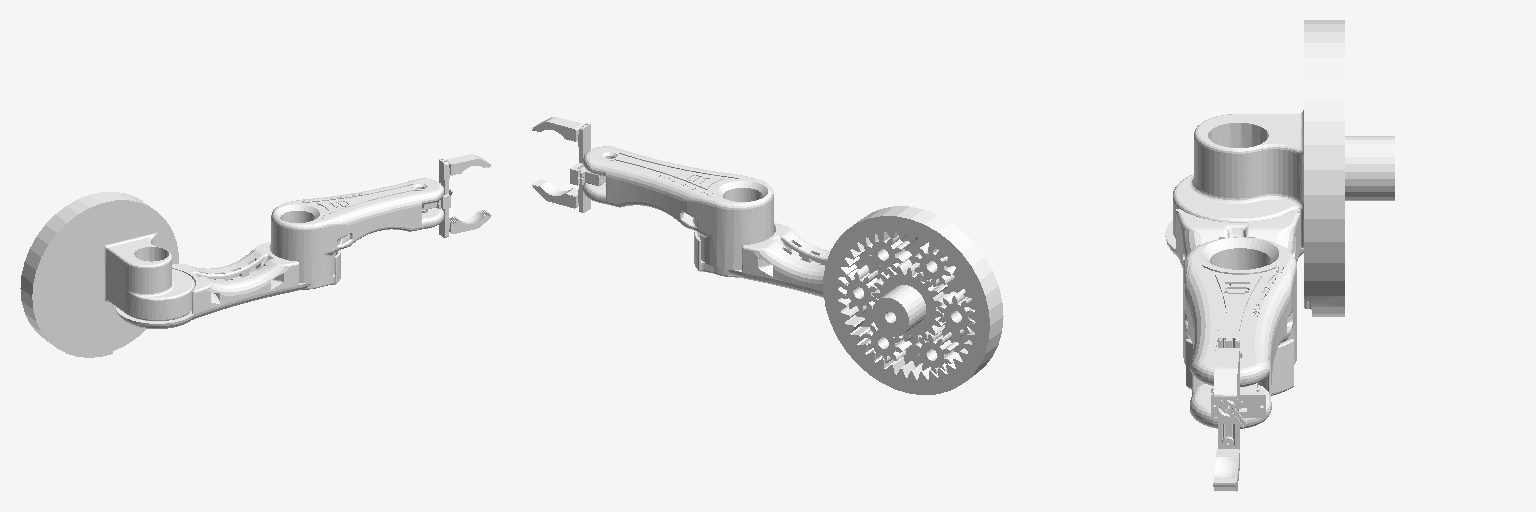
The robot description file, URDF, robot "Ensamblajev12_6":
<?xml version="1.0" encoding="utf-8"?>
<!-- This URDF was automatically created by SolidWorks to URDF Exporter! Originally created by Stephen Brawner (brawner@gmail.com) 
     Commit Version: 1.6.0-4-g7f85cfe  Build Version: 1.6.7995.38578
     For more information, please see http://wiki.ros.org/sw_urdf_exporter -->
<robot
  name="Ensamblajev12_6">
  <link
    name="base_link">
    <inertial>
      <origin
        xyz="0.14769 -0.092824 0.09895"
        rpy="0 0 0" />
      <mass
        value="5" />
      <inertia
        ixx="0.0061943"
        ixy="0.00034463"
        ixz="-2.711E-05"
        iyy="0.013162"
        iyz="9.2508E-06"
        izz="0.010154" />
    </inertial>
    <visual>
      <origin
        xyz="0 0 0"
        rpy="0 0 0" />
      <geometry>
        <mesh
          filename="package://Ensamblajev12_6/meshes/base_link.STL" />
      </geometry>
      <material
        name="">
        <color
          rgba="0.29804 0.29804 0.29804 1" />
      </material>
    </visual>
    <collision>
      <origin
        xyz="0 0 0"
        rpy="0 0 0" />
      <geometry>
        <mesh
          filename="package://Ensamblajev12_6/meshes/base_link.STL" />
      </geometry>
    </collision>
  </link>
  <link
    name="B1">
    <inertial>
      <origin
        xyz="0.0050893 0.0028829 0.020526"
        rpy="0 0 0" />
      <mass
        value="0.2" />
      <inertia
        ixx="0.0011773"
        ixy="-3.3249E-05"
        ixz="-0.00011396"
        iyy="0.0012987"
        iyz="-2.1578E-05"
        izz="0.0019641" />
    </inertial>
    <visual>
      <origin
        xyz="0 0 0"
        rpy="0 0 0" />
      <geometry>
        <mesh
          filename="package://Ensamblajev12_6/meshes/B1.STL" />
      </geometry>
      <material
        name="">
        <color
          rgba="1 1 1 1" />
      </material>
    </visual>
    <collision>
      <origin
        xyz="0 0 0"
        rpy="0 0 0" />
      <geometry>
        <mesh
          filename="package://Ensamblajev12_6/meshes/B1.STL" />
      </geometry>
    </collision>
  </link>
  <joint
    name="J1"
    type="continuous">
    <origin
      xyz="0.099806 -0.135 0.10018"
      rpy="1.5708 -0.0014338 0" />
    <parent
      link="base_link" />
    <child
      link="B1" />
    <axis
      xyz="0 0 1" />
  </joint>
  <link
    name="A1">
    <inertial>
      <origin
        xyz="0.084043 0.00053774 0.011617"
        rpy="0 0 0" />
      <mass
        value="0.15" />
      <inertia
        ixx="0.00014704"
        ixy="-6.8149E-06"
        ixz="-3.9771E-06"
        iyy="0.0013021"
        iyz="-1.488E-07"
        izz="0.0013966" />
    </inertial>
    <visual>
      <origin
        xyz="0 0 0"
        rpy="0 0 0" />
      <geometry>
        <mesh
          filename="package://Ensamblajev12_6/meshes/A1.STL" />
      </geometry>
      <material
        name="">
        <color
          rgba="1 1 1 1" />
      </material>
    </visual>
    <collision>
      <origin
        xyz="0 0 0"
        rpy="0 0 0" />
      <geometry>
        <mesh
          filename="package://Ensamblajev12_6/meshes/A1.STL" />
      </geometry>
    </collision>
  </link>
  <joint
    name="J2"
    type="continuous">
    <origin
      xyz="0.04 -0.032 0.065"
      rpy="-1.5708 0 -0.0014338" />
    <parent
      link="B1" />
    <child
      link="A1" />
    <axis
      xyz="-0.0014338 0 1" />
    <limit
      lower="-2.43"
      upper="0"
      effort="10"
      velocity="1" />
  </joint>
  <link
    name="A2">
    <inertial>
      <origin
        xyz="0.0040691 0.05438 0.044947"
        rpy="0 0 0" />
      <mass
        value="0.1" />
      <inertia
        ixx="0.00089175"
        ixy="-3.5921E-05"
        ixz="-1.9369E-06"
        iyy="0.00015707"
        iyz="-3.9437E-05"
        izz="0.00093244" />
    </inertial>
    <visual>
      <origin
        xyz="0 0 0"
        rpy="0 0 0" />
      <geometry>
        <mesh
          filename="package://Ensamblajev12_6/meshes/A2.STL" />
      </geometry>
      <material
        name="">
        <color
          rgba="1 1 1 1" />
      </material>
    </visual>
    <collision>
      <origin
        xyz="0 0 0"
        rpy="0 0 0" />
      <geometry>
        <mesh
          filename="package://Ensamblajev12_6/meshes/A2.STL" />
      </geometry>
    </collision>
  </link>
  <joint
    name="J3"
    type="continuous">
    <origin
      xyz="0.17997 0.0027028 0.0072582"
      rpy="0.0014338 -1.051E-05 -1.5635" />
    <parent
      link="A1" />
    <child
      link="A2" />
    <axis
      xyz="0 0 1" />
    <limit
      lower="-2.68"
      upper="2.88"
      effort="10"
      velocity="1" />
  </joint>
  <link
    name="G1">
    <inertial>
      <origin
        xyz="-0.006216 0.0025049 0.0077751"
        rpy="0 0 0" />
      <mass
        value="0.005" />
      <inertia
        ixx="1.0619E-09"
        ixy="-5.2811E-10"
        ixz="-1.0382E-11"
        iyy="1.8409E-08"
        iyz="2.1736E-11"
        izz="1.7847E-08" />
    </inertial>
    <visual>
      <origin
        xyz="0 0 0"
        rpy="0 0 0" />
      <geometry>
        <mesh
          filename="package://Ensamblajev12_6/meshes/G1.STL" />
      </geometry>
      <material
        name="">
        <color
          rgba="1 1 1 1" />
      </material>
    </visual>
    <collision>
      <origin
        xyz="0 0 0"
        rpy="0 0 0" />
      <geometry>
        <mesh
          filename="package://Ensamblajev12_6/meshes/G1.STL" />
      </geometry>
    </collision>
  </link>
  <joint
    name="J4"
    type="fixed">
    <origin
      xyz="-0.00025 0.16894 0.047"
      rpy="-3.1416 0.89637 -3.1416" />
    <parent
      link="A2" />
    <child
      link="G1" />
    <axis
      xyz="0 1 0" />
    <limit
      lower="0"
      upper="0"
      effort="0"
      velocity="0" />
  </joint>
  <link
    name="g11">
    <inertial>
      <origin
        xyz="-0.00056573 0.013666 -0.010485"
        rpy="0 0 0" />
      <mass
        value="0.001" />
      <inertia
        ixx="1.3061E-06"
        ixy="4.6516E-08"
        ixz="-5.928E-10"
        iyy="1.8437E-07"
        iyz="1.4324E-08"
        izz="1.32E-06" />
    </inertial>
    <visual>
      <origin
        xyz="0 0 0"
        rpy="0 0 0" />
      <geometry>
        <mesh
          filename="package://Ensamblajev12_6/meshes/g11.STL" />
      </geometry>
      <material
        name="">
        <color
          rgba="1 1 1 1" />
      </material>
    </visual>
    <collision>
      <origin
        xyz="0 0 0"
        rpy="0 0 0" />
      <geometry>
        <mesh
          filename="package://Ensamblajev12_6/meshes/g11.STL" />
      </geometry>
    </collision>
  </link>
  <joint
    name="g1"
    type="prismatic">
    <origin
      xyz="-0.025731 0.0086004 -0.0071255"
      rpy="0.0091681 0.89634 0.011738" />
    <parent
      link="G1" />
    <child
      link="g11" />
    <axis
      xyz="0 0 1" />
    <limit
      lower="-0.01"
      upper="0.02"
      effort="10"
      velocity="1" />
    <mimic
      joint="J4"
      multiplier="1"
      offset="0" />
  </joint>
  <link
    name="g12">
    <inertial>
      <origin
        xyz="-0.00056572 0.013666 0.010485"
        rpy="0 0 0" />
      <mass
        value="0.001" />
      <inertia
        ixx="1.3061E-06"
        ixy="4.6515E-08"
        ixz="5.931E-10"
        iyy="1.8437E-07"
        iyz="-1.4324E-08"
        izz="1.32E-06" />
    </inertial>
    <visual>
      <origin
        xyz="0 0 0"
        rpy="0 0 0" />
      <geometry>
        <mesh
          filename="package://Ensamblajev12_6/meshes/g12.STL" />
      </geometry>
      <material
        name="">
        <color
          rgba="1 1 1 1" />
      </material>
    </visual>
    <collision>
      <origin
        xyz="0 0 0"
        rpy="0 0 0" />
      <geometry>
        <mesh
          filename="package://Ensamblajev12_6/meshes/g12.STL" />
      </geometry>
    </collision>
  </link>
  <joint
    name="g2"
    type="prismatic">
    <origin
      xyz="0.012167 0.0085931 0.023365"
      rpy="0.0091681 0.89634 0.011738" />
    <parent
      link="G1" />
    <child
      link="g12" />
    <axis
      xyz="0 0 -1" />
    <limit
      lower="-0.01"
      upper="0.025"
      effort="10"
      velocity="1" />
    <mimic
      joint="g1"
      multiplier="1"
      offset="0" />
  </joint>
</robot>

--- Render facts (derived) ---
The picture shows the robot from 3 angles, left to right: view 1: azimuth 30°, elevation 25°; view 2: azimuth 150°, elevation 25°; view 3: azimuth 270°, elevation 25°; orthographic projection.
Robot: Ensamblajev12_6 — 7 links, 6 joints (3 continuous, 2 prismatic, 1 fixed); root link base_link; default pose: all joints at 0.
Visible links, largest first — view 1: B1, A2, A1, g12, g11; view 2: B1, A2, A1, g12, g11; view 3: B1, A2, A1, g11, g12.
Boxes of the visible links, box(x1,y1,x2,y2) form: B1: box(20, 192, 194, 357); A2: box(271, 159, 450, 282); A1: box(115, 242, 340, 328); g12: box(449, 210, 491, 233); g11: box(446, 154, 490, 178); B1: box(823, 206, 1003, 394); A2: box(570, 123, 773, 269); A1: box(694, 223, 829, 297); g12: box(532, 179, 578, 208); g11: box(532, 117, 582, 146); B1: box(1173, 20, 1394, 316); A2: box(1183, 237, 1296, 449); A1: box(1165, 209, 1303, 395); g11: box(1214, 348, 1239, 399); g12: box(1213, 436, 1239, 491).
Size in the robot's own frame: 0.5311 by 0.1395 by 0.1798 metres.
6 mesh visuals loaded from 7 distinct referenced files (6 binary STL); not drawn: 1 (reference not matched to a file when rendering).
